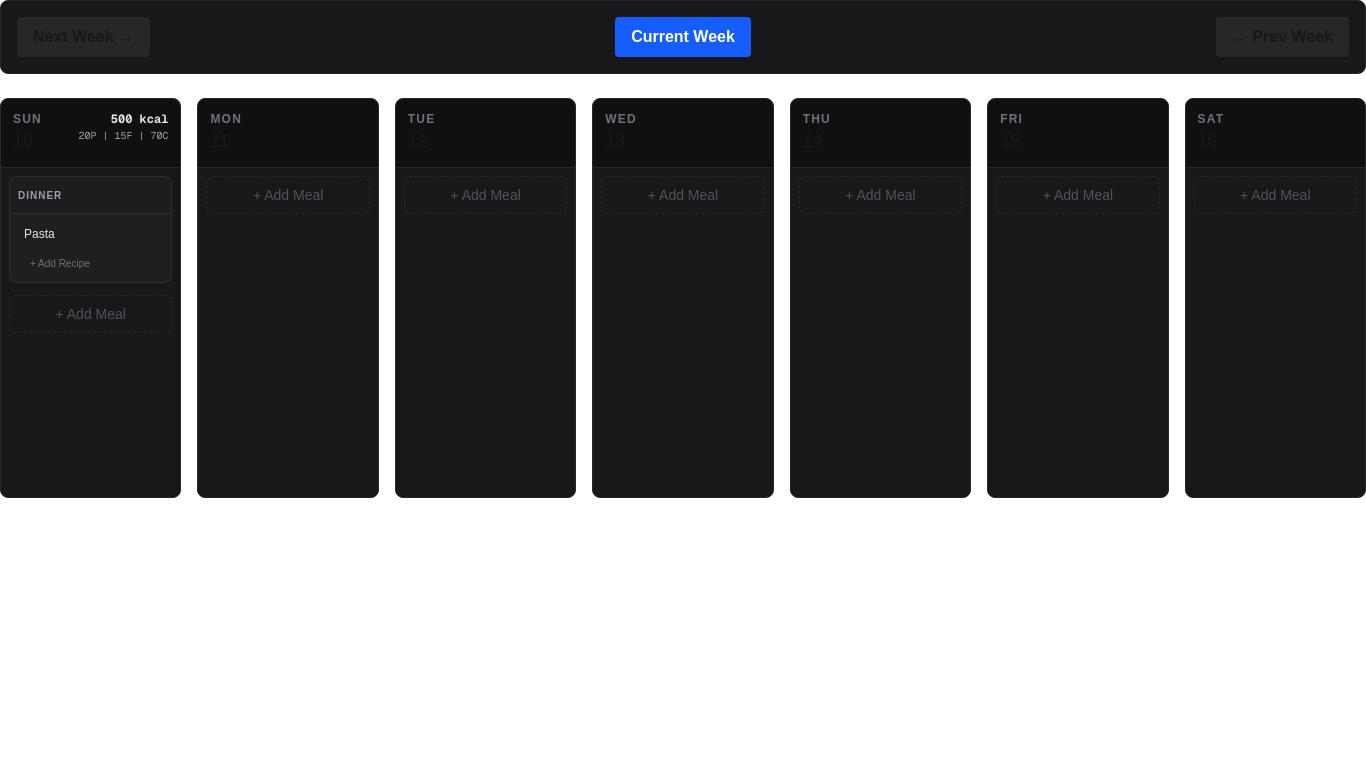
Test: MealCalendarClient › can open add recipe modal
Click the button "+ Add Recipe": x=91, y=264 [18,253,163,274]
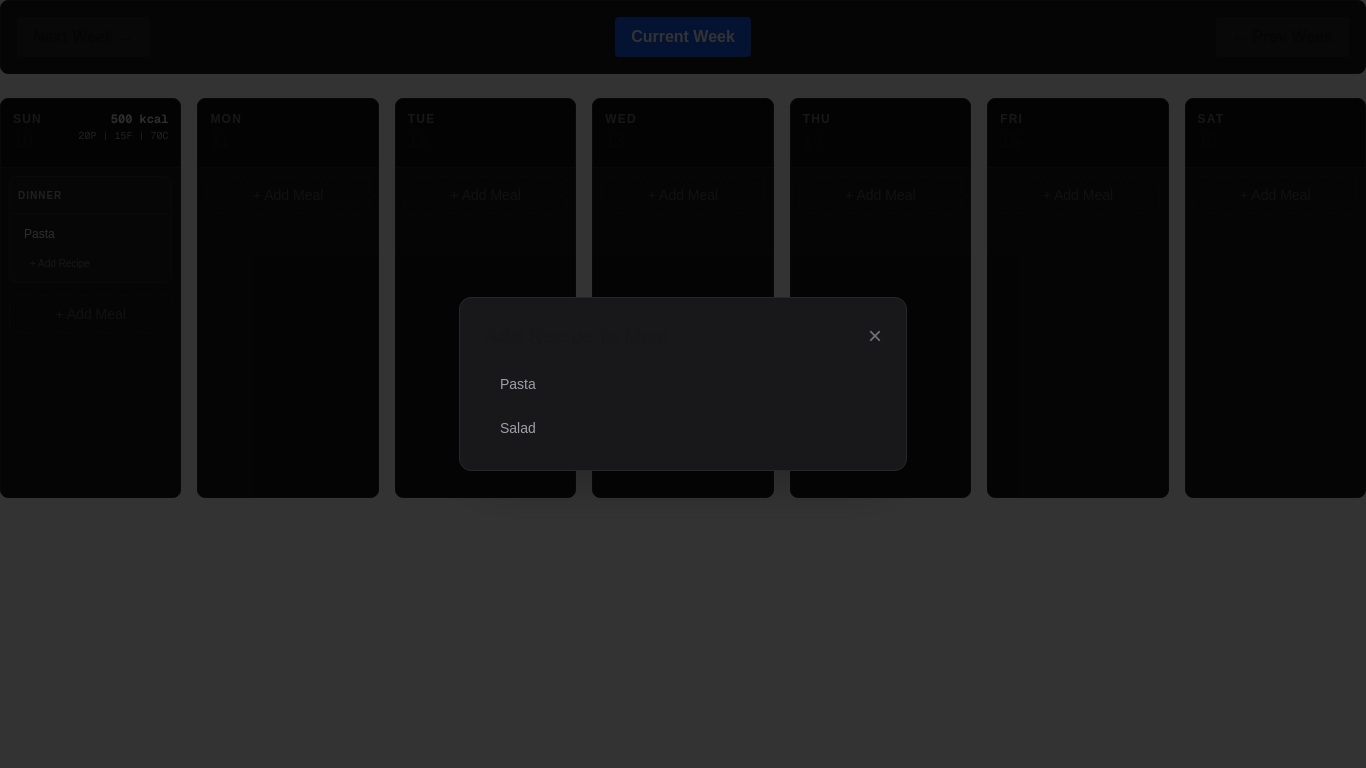
Expected: the button "Salad" is shown, [484,410,882,446]
